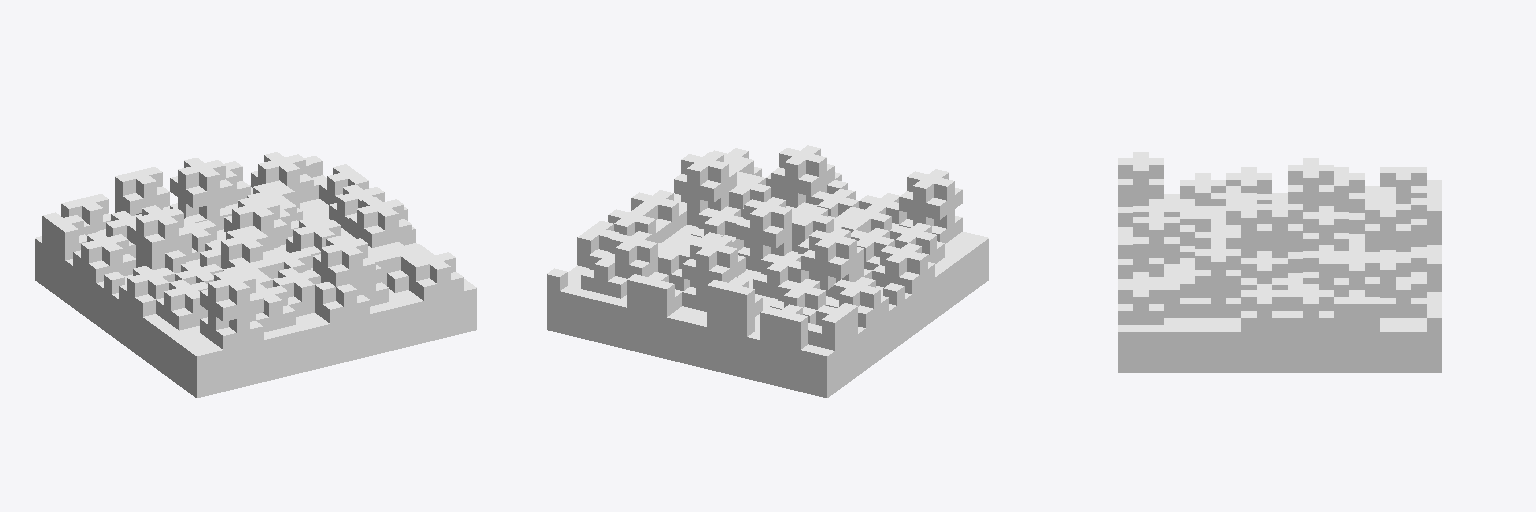
Rendered from forest0.obj.
3 views of the same model, side by side, from view 1: azimuth 30°, elevation 25°; view 2: azimuth 150°, elevation 25°; view 3: azimuth 270°, elevation 25° (orthographic).
Bounding box in the file's own units: 21 × 7 × 21.